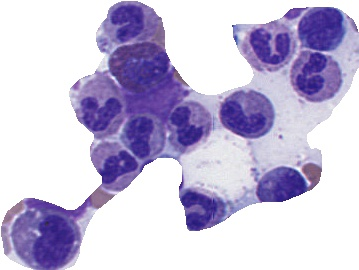objectness: (161, 99, 211, 149), (91, 142, 141, 192), (246, 24, 296, 74), (178, 179, 228, 229), (74, 87, 124, 137), (253, 162, 303, 212), (23, 215, 73, 265), (114, 39, 164, 89), (223, 89, 273, 139), (119, 110, 169, 160), (107, 0, 157, 47)
